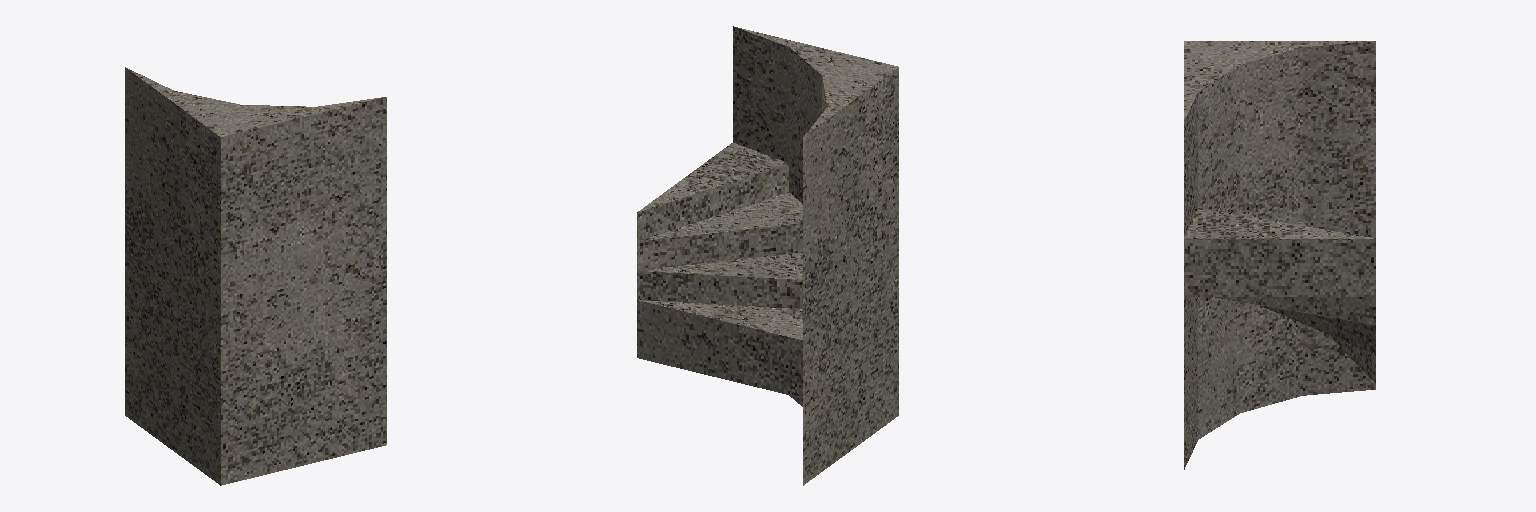
3 renders of one model, left to right at view 1: azimuth 30°, elevation 25°; view 2: azimuth 150°, elevation 25°; view 3: azimuth 270°, elevation 25°, orthographic.
Size of the model in its own units: 1 by 2 by 1.
Materials: 1 (1 with a texture image).